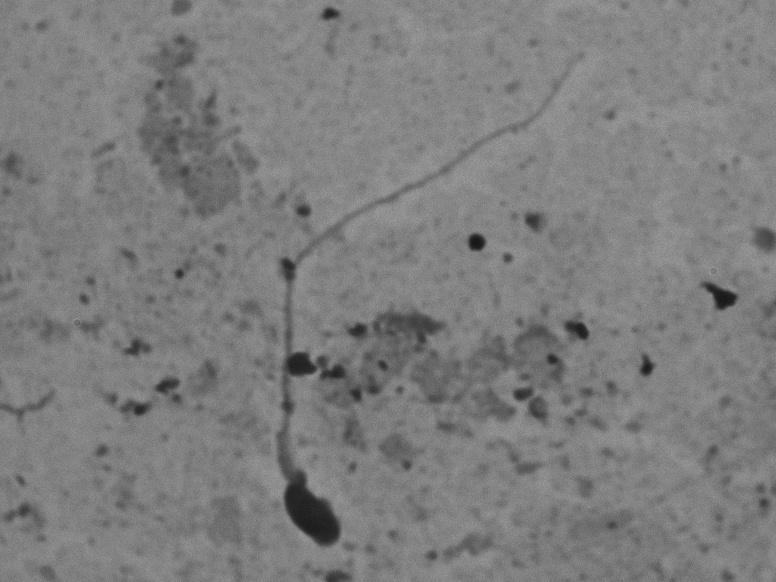Abnormal: (222, 36, 582, 556)
